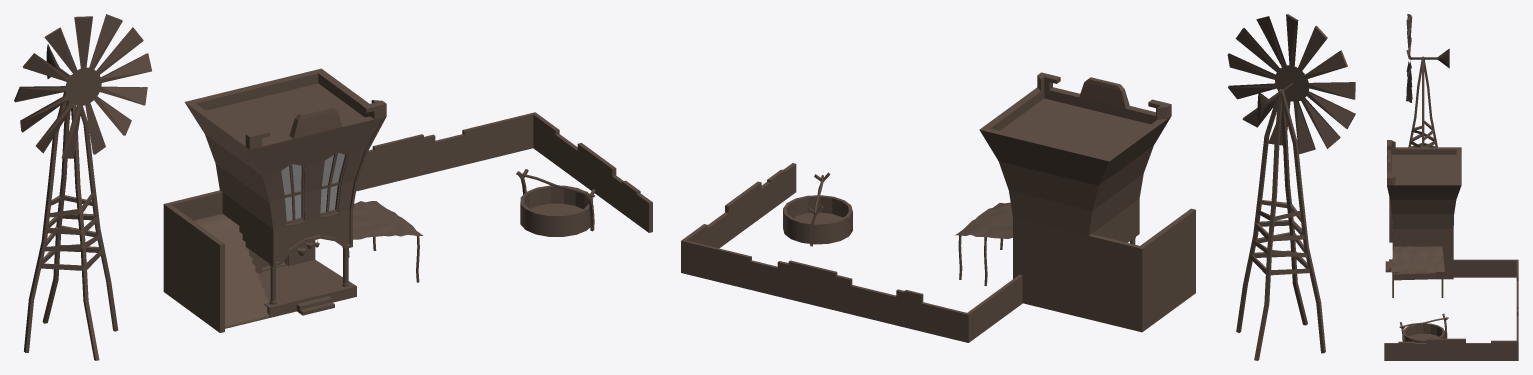
File: RevizzeDesert5.fbx
3 renders of one model, left to right at view 1: azimuth 30°, elevation 25°; view 2: azimuth 150°, elevation 25°; view 3: azimuth 270°, elevation 25°, orthographic. The views are drawn at different scales.
Parts seen in each view (by area): view 1: Box003, Plane004, Cylinder006, Box007, Box002, Plane001, Cylinder011, Box010, Box011, Plane002, Object001, Box009 (+2 smaller); view 2: Box003, Plane004, Box007, Cylinder006, Box002, Cylinder011, Box011, Box010, Box009, Plane002, Box008; view 3: Box003, Plane004, Plane002, Box002, Cylinder011, Cylinder006, Box011, Box010, Box008, Cylinder007, Box007.
Part boxes in pixels (bbox=[...]): Box003: bbox=[184, 68, 386, 266]; Plane004: bbox=[356, 112, 652, 232]; Cylinder006: bbox=[14, 14, 151, 158]; Box007: bbox=[163, 190, 224, 332]; Box002: bbox=[225, 215, 356, 317]; Plane001: bbox=[193, 213, 268, 328]; Cylinder011: bbox=[520, 185, 592, 236]; Box010: bbox=[40, 105, 103, 360]; Box011: bbox=[42, 75, 99, 323]; Plane002: bbox=[353, 201, 423, 239]; Object001: bbox=[281, 153, 344, 220]; Box009: bbox=[24, 76, 70, 352]; Box003: bbox=[979, 72, 1171, 271]; Plane004: bbox=[681, 163, 1022, 342]; Box007: bbox=[1089, 208, 1195, 332]; Cylinder006: bbox=[1227, 14, 1355, 154]; Box002: bbox=[1013, 245, 1088, 319]; Cylinder011: bbox=[783, 195, 852, 244]; Box011: bbox=[1250, 90, 1309, 360]; Box010: bbox=[1254, 89, 1308, 325]; Box009: bbox=[1281, 90, 1325, 353]; Plane002: bbox=[955, 202, 1012, 238]; Box008: bbox=[1236, 89, 1280, 332]; Box003: bbox=[1387, 140, 1461, 250]; Plane004: bbox=[1384, 259, 1518, 360]; Plane002: bbox=[1391, 246, 1444, 271]; Box002: bbox=[1392, 243, 1453, 280]; Cylinder011: bbox=[1403, 323, 1445, 342]; Cylinder006: bbox=[1406, 14, 1412, 102]; Box011: bbox=[1423, 57, 1437, 147]; Box010: bbox=[1408, 56, 1422, 147]; Box008: bbox=[1422, 57, 1424, 147]; Cylinder007: bbox=[1410, 48, 1449, 68]; Box007: bbox=[1389, 198, 1392, 242].
Size of the model in its own units: 704 by 365 by 233.
